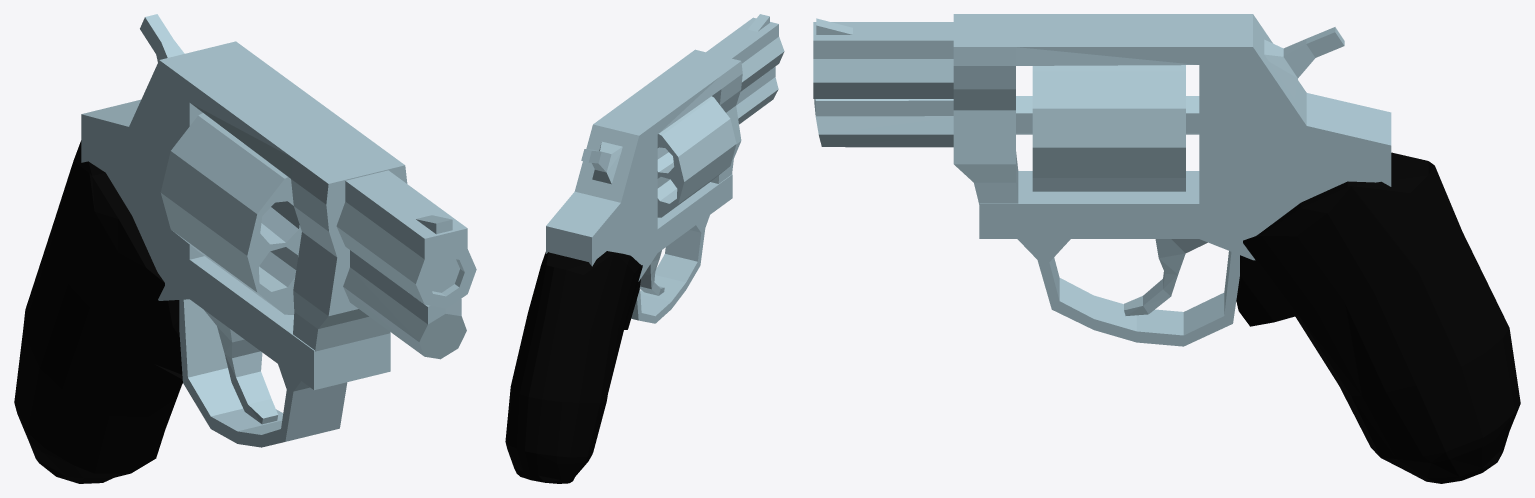
The model's file is Revolver-E9wrywgP9D.glb.
The picture shows the model from 3 angles, left to right: view 1: azimuth 30°, elevation 25°; view 2: azimuth 150°, elevation 25°; view 3: azimuth 270°, elevation 25°; orthographic projection. The views are drawn at different scales.
Visible parts, largest first — view 1: Revolver_01_Cylinder.002; view 2: Revolver_01_Cylinder.002; view 3: Revolver_01_Cylinder.002.
Boxes of the visible parts, x1,y1,x2,y2 form: Revolver_01_Cylinder.002: [14, 14, 476, 483]; Revolver_01_Cylinder.002: [505, 14, 784, 483]; Revolver_01_Cylinder.002: [813, 14, 1520, 483].
Size of the model in its own units: 1.04 by 3.41 by 4.83.
